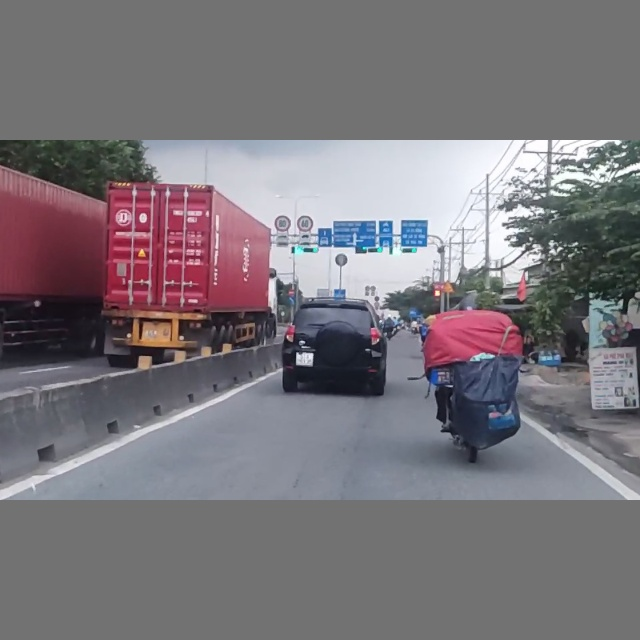P.102: (287, 289, 295, 295)
P.127*60: (297, 215, 314, 232)
P.127*80: (275, 215, 291, 232)
R.302a: (288, 297, 295, 303)
